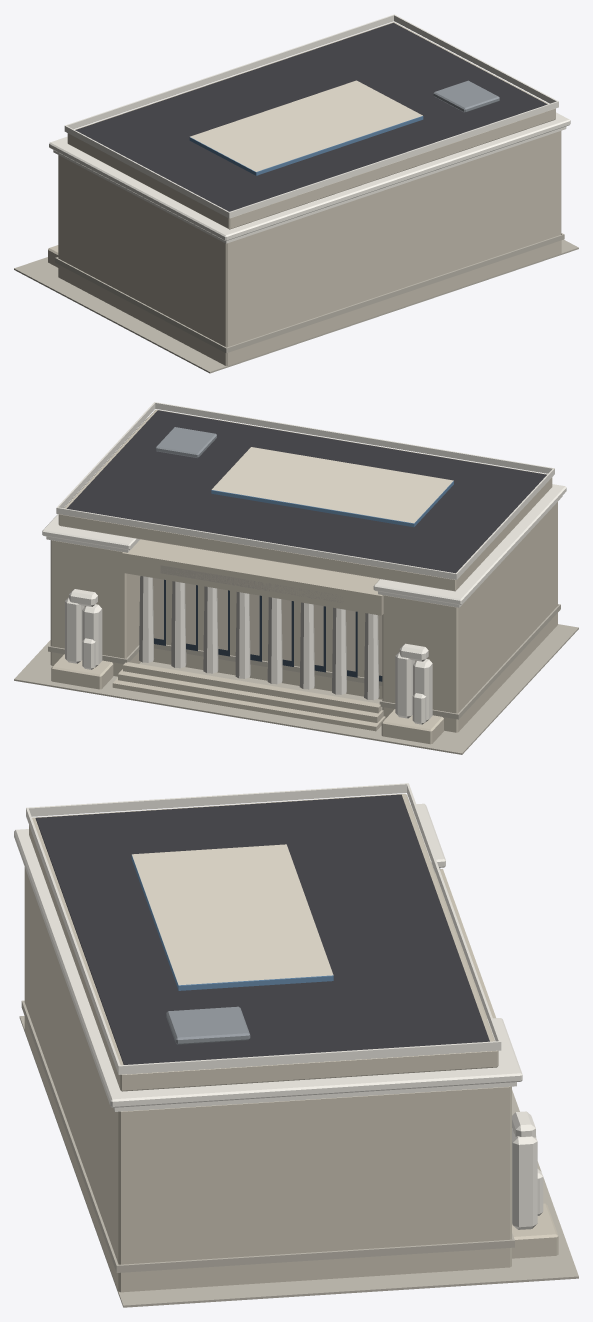
File: 301-pine-street.glb
The picture shows the model from 3 angles, top to bottom: view 1: azimuth 30°, elevation 25°; view 2: azimuth 150°, elevation 25°; view 3: azimuth 270°, elevation 25°; orthographic projection. The views are drawn at different scales.
Visible parts, largest first — view 1: 301-pine-street_body, 301-pine-street_night_glow; view 2: 301-pine-street_body, 301-pine-street_night_glow; view 3: 301-pine-street_body, 301-pine-street_night_glow.
Boxes of the visible parts, bbox=[...] form: 301-pine-street_body: bbox=[14, 14, 578, 373]; 301-pine-street_night_glow: bbox=[190, 80, 422, 171]; 301-pine-street_body: bbox=[14, 402, 578, 754]; 301-pine-street_night_glow: bbox=[153, 447, 453, 675]; 301-pine-street_body: bbox=[14, 783, 578, 1307]; 301-pine-street_night_glow: bbox=[132, 844, 333, 985].
Size of the model in its own units: 48.1 by 15.9 by 36.04.
